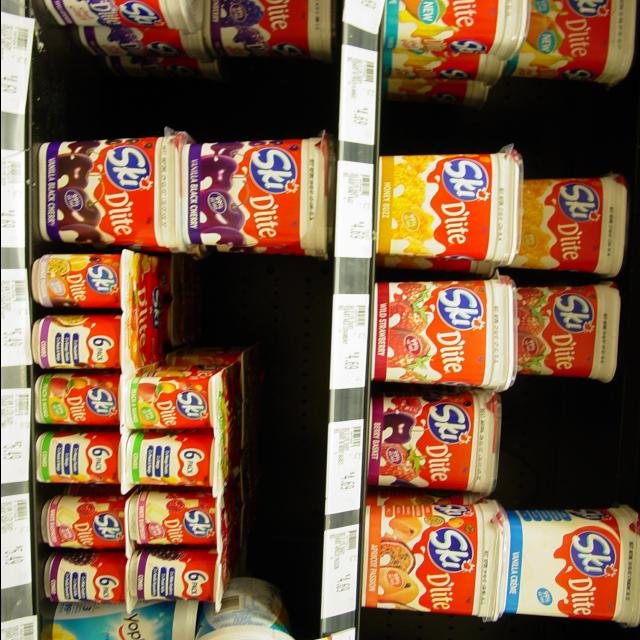empty_space: (39, 59, 325, 133), (238, 351, 318, 563), (372, 92, 612, 154), (502, 384, 628, 488), (174, 260, 318, 344)
